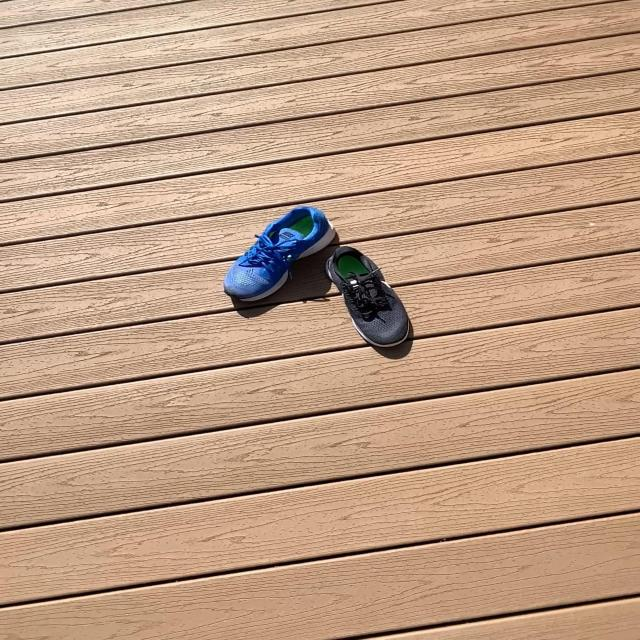shoe: (223, 206, 395, 327)
